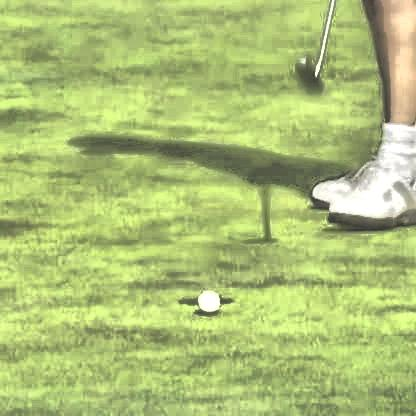golfball: (194, 289, 219, 313)
